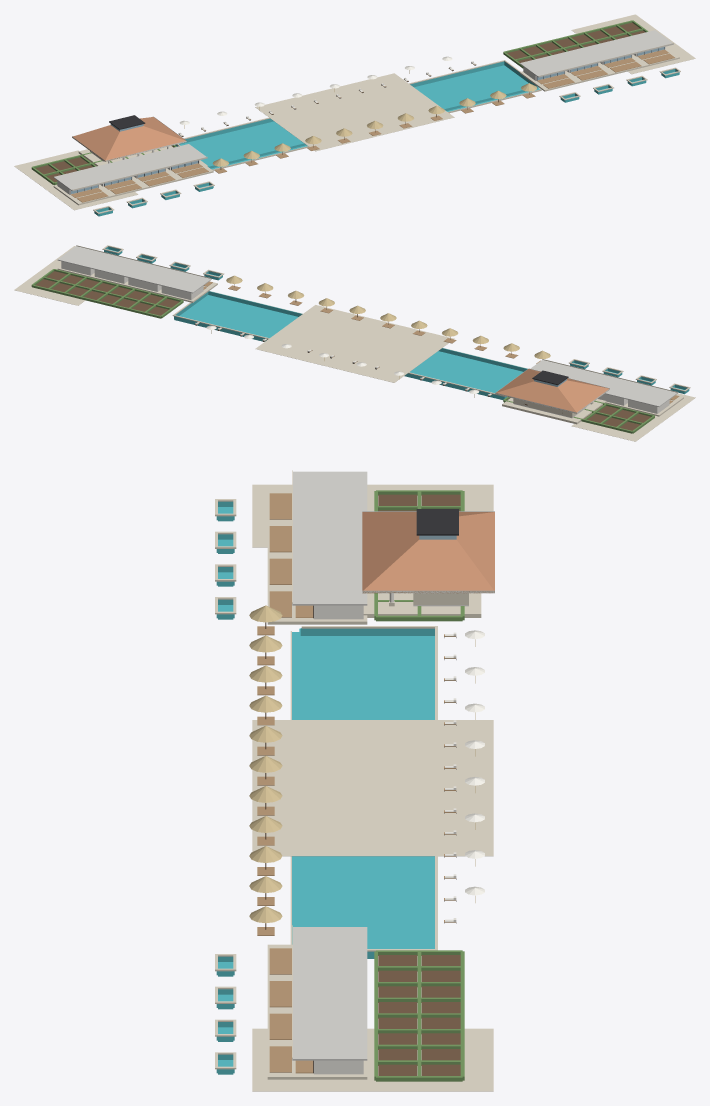
Rendered from E6-6_Arq_T1.fbx.
3 renders of one model, top to bottom at view 1: azimuth 30°, elevation 25°; view 2: azimuth 150°, elevation 25°; view 3: azimuth 270°, elevation 25°, orthographic. The views are drawn at different scales.
Parts seen in each view (by area): view 1: E6-6_Arq_T1; view 2: E6-6_Arq_T1; view 3: E6-6_Arq_T1.
Boxes of the visible parts, x1,y1,x2,y2 form: E6-6_Arq_T1: (14, 14, 695, 216); E6-6_Arq_T1: (14, 245, 695, 441); E6-6_Arq_T1: (215, 470, 494, 1091).
Bounding box in the file's own units: 232 × 12.5 × 45.2.
